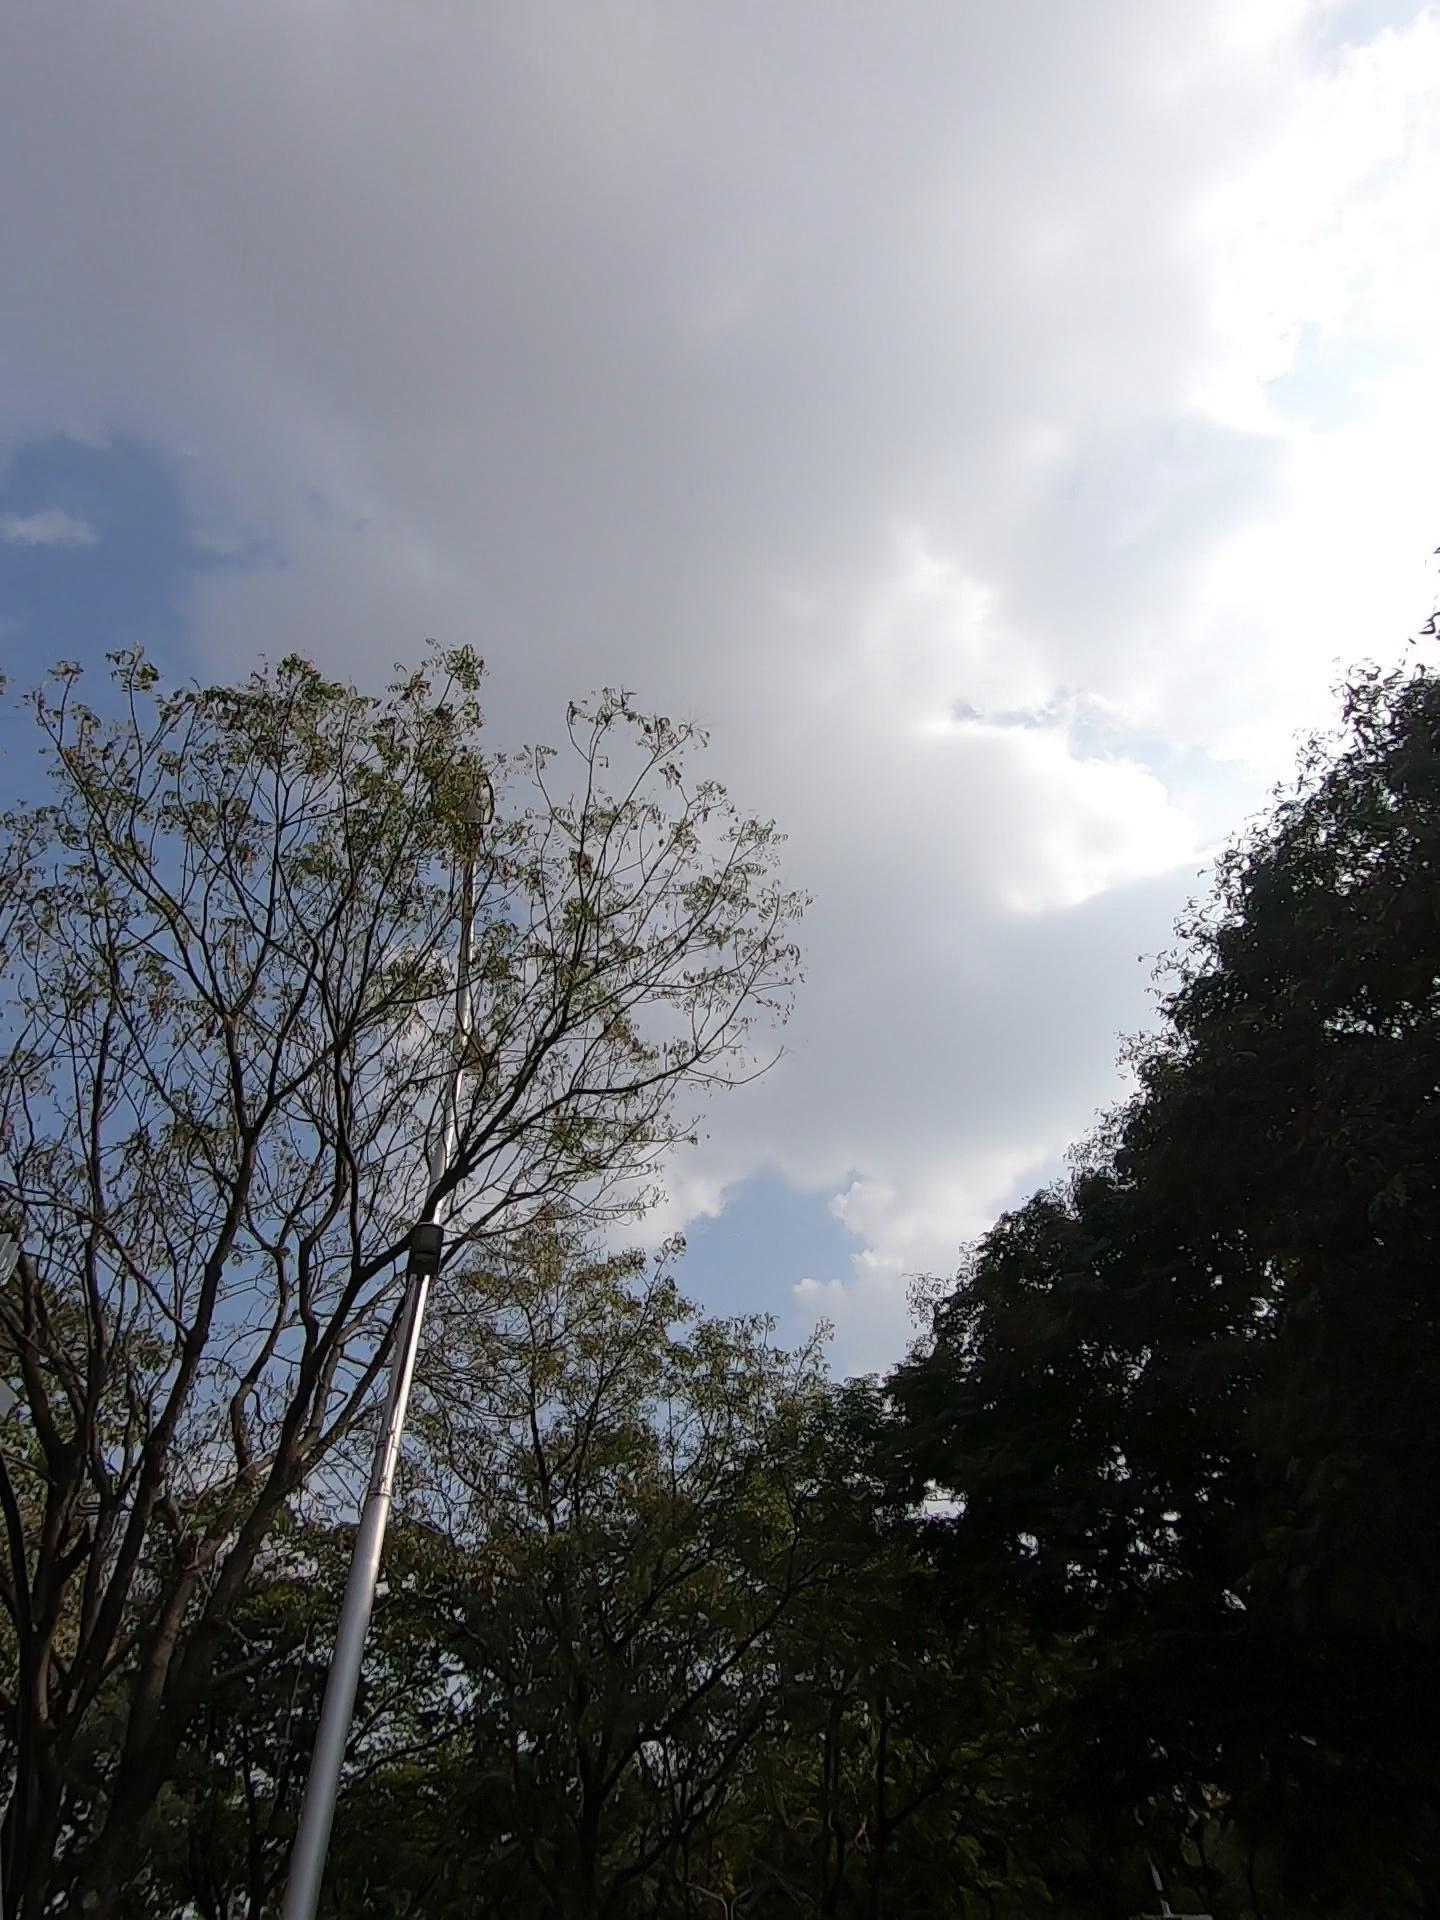off: (269, 671, 540, 1160)
